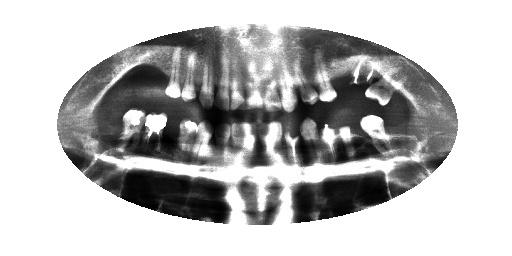i10decay: (212, 117, 232, 169)
i11decay: (191, 118, 214, 162)
i12healthy: (175, 114, 200, 160)
i13loss: (157, 110, 181, 157)
i14decay: (142, 109, 169, 158)
i15decay: (121, 107, 146, 155)
i2healthy: (357, 109, 395, 160)
i3loss: (347, 117, 373, 155)
i4decay: (336, 113, 354, 159)
i5chipped: (320, 114, 339, 164)
i6healthy: (297, 114, 322, 166)
i7decay: (280, 114, 302, 168)
i8decay: (253, 119, 287, 168)
i9decay: (230, 116, 256, 168)
u10healthy: (226, 47, 247, 115)
u11decay: (214, 47, 232, 114)
u12healthy: (195, 44, 218, 111)
u13healthy: (179, 44, 200, 105)
u14healthy: (163, 42, 184, 102)
u15loss: (147, 48, 169, 99)
u2healthy: (362, 64, 407, 108)
u3chipped: (348, 51, 374, 100)
u4loss: (327, 47, 352, 101)
u5healthy: (308, 45, 341, 105)
u6healthy: (291, 46, 321, 109)
u7healthy: (278, 50, 301, 115)
u8healthy: (261, 48, 284, 117)
u9healthy: (244, 50, 264, 115)
